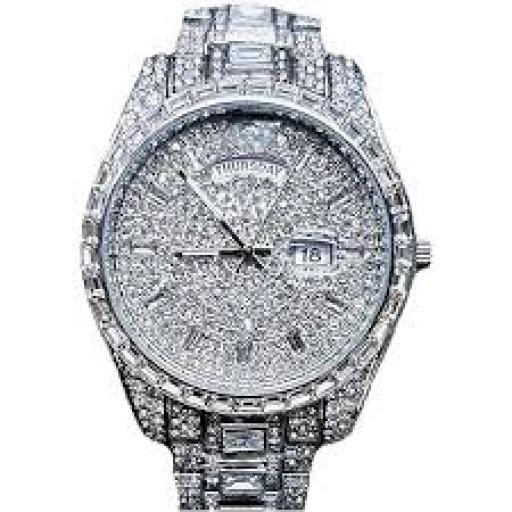KolSaati: (40, 0, 486, 512)
